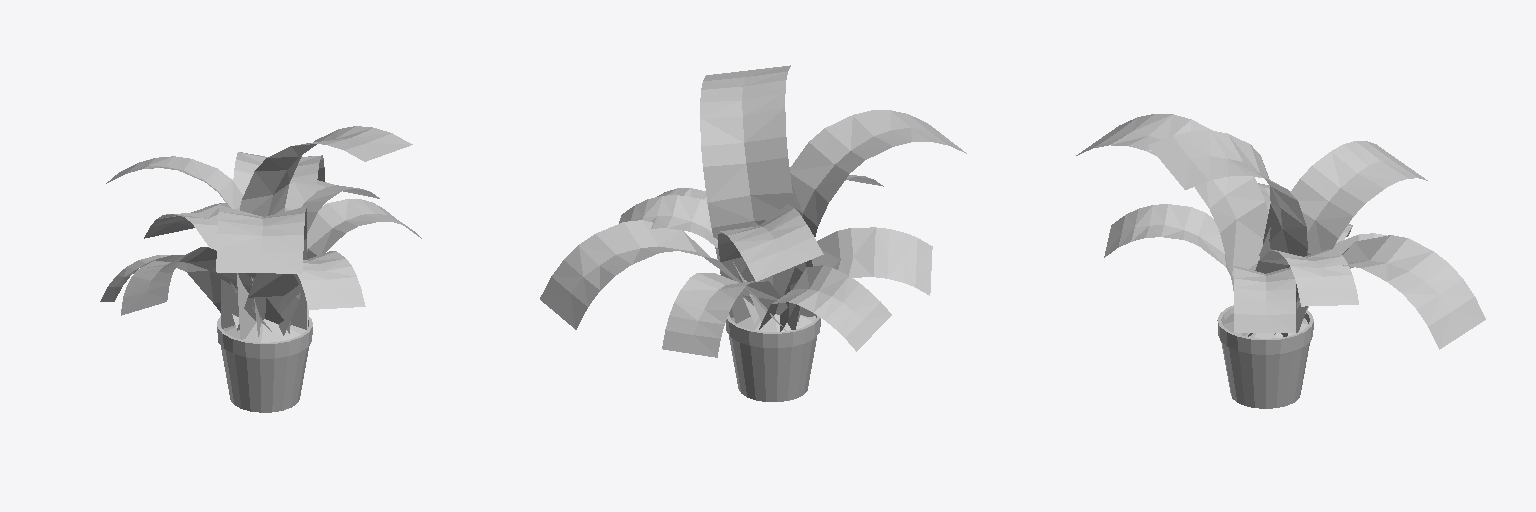
The model's file is plant.obj.
3 renders of one model, left to right at view 1: azimuth 30°, elevation 25°; view 2: azimuth 150°, elevation 25°; view 3: azimuth 270°, elevation 25°, orthographic.
Parts seen in each view (by area): view 1: plant; view 2: plant; view 3: plant.
Part boxes in pixels (x1,y1,x2,y2): plant: (100,126,421,412); plant: (540,65,966,401); plant: (1076,114,1485,408).
Size of the model in its own units: 7.92 by 6.98 by 9.5.